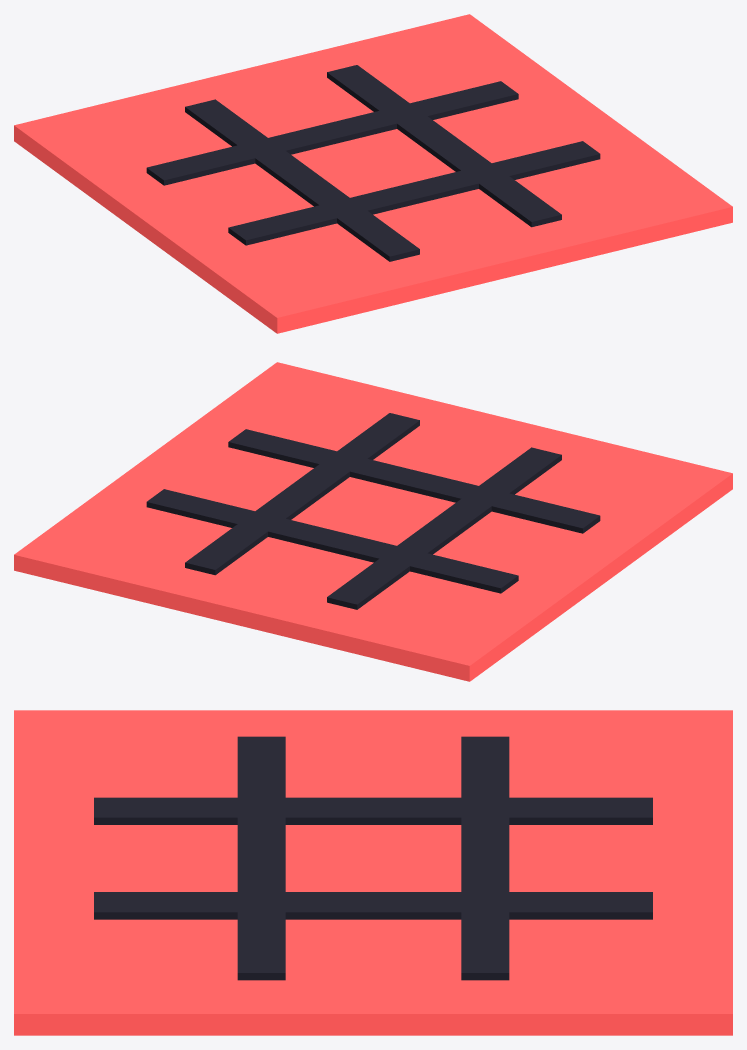
Rendered from prop_seal_red.glb.
3 renders of one model, top to bottom at view 1: azimuth 30°, elevation 25°; view 2: azimuth 150°, elevation 25°; view 3: azimuth 270°, elevation 25°, orthographic. The views are drawn at different scales.
Parts seen in each view (by area): view 1: prop_seal_red; view 2: prop_seal_red; view 3: prop_seal_red.
Boxes of the visible parts, x1=… form: prop_seal_red: x1=14, y1=14, x2=732, y2=333; prop_seal_red: x1=14, y1=362, x2=732, y2=681; prop_seal_red: x1=14, y1=710, x2=732, y2=1035.
Bounding box in the file's own units: 0.9 × 0.04 × 0.9.
